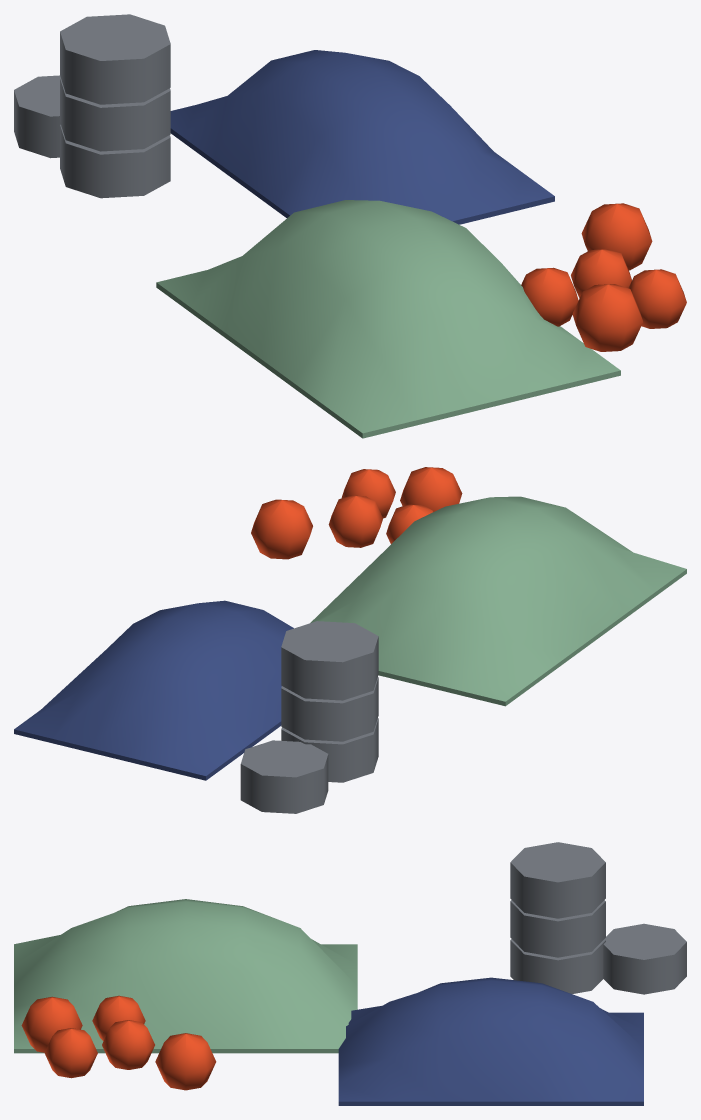
The model's file is port_cargo2.fbx.
3 renders of one model, top to bottom at view 1: azimuth 30°, elevation 25°; view 2: azimuth 150°, elevation 25°; view 3: azimuth 270°, elevation 25°, orthographic. The views are drawn at different scales.
Parts seen in each view (by area): view 1: a1001_0_port_cargo2; view 2: a1001_0_port_cargo2; view 3: a1001_0_port_cargo2.
Boxes of the visible parts, x1,y1,x2,y2 form: a1001_0_port_cargo2: [14, 14, 686, 438]; a1001_0_port_cargo2: [14, 467, 686, 813]; a1001_0_port_cargo2: [14, 842, 686, 1105].
Size of the model in its own units: 3.92 by 1.37 by 7.05.
